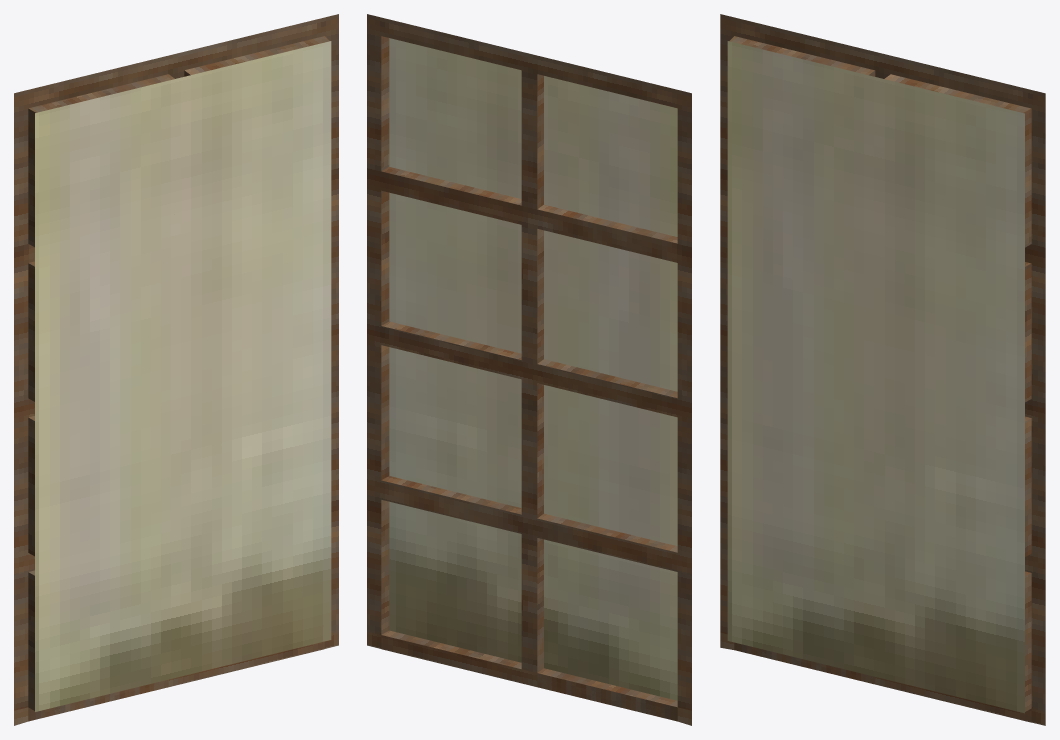
File: GJ_Wall_Window_Frame_05.fbx
3 views of the same model, side by side, from view 1: azimuth 30°, elevation 25°; view 2: azimuth 150°, elevation 25°; view 3: azimuth 330°, elevation 25° (orthographic).
Visible parts, largest first — view 1: GJ_Wall_Window_Frame_05; view 2: GJ_Wall_Window_Frame_05; view 3: GJ_Wall_Window_Frame_05.
Part boxes in pixels (x1,y1,x2,y2): GJ_Wall_Window_Frame_05: (14, 14, 338, 725); GJ_Wall_Window_Frame_05: (367, 14, 691, 725); GJ_Wall_Window_Frame_05: (720, 14, 1045, 725).
Bounding box in the file's own units: 87.5 × 163 × 3.1.
